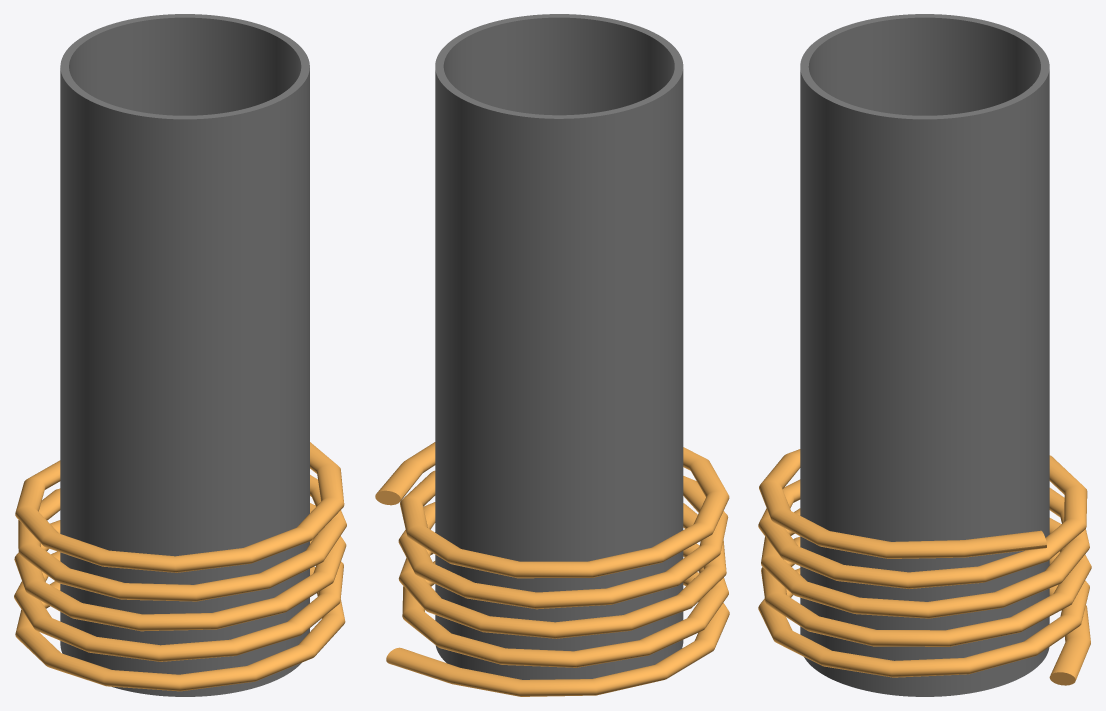
Rendered from Load Coil.fbx.
3 renders of one model, left to right at view 1: azimuth 30°, elevation 25°; view 2: azimuth 150°, elevation 25°; view 3: azimuth 270°, elevation 25°, orthographic.
Visible parts, largest first — view 1: Cylinder.012; view 2: Cylinder.012; view 3: Cylinder.012.
Boxes of the visible parts, x1,y1,x2,y2 form: Cylinder.012: [14, 14, 346, 696]; Cylinder.012: [375, 14, 729, 696]; Cylinder.012: [758, 14, 1091, 696].
Bounding box in the file's own units: 38.81 × 74.14 × 38.8.
